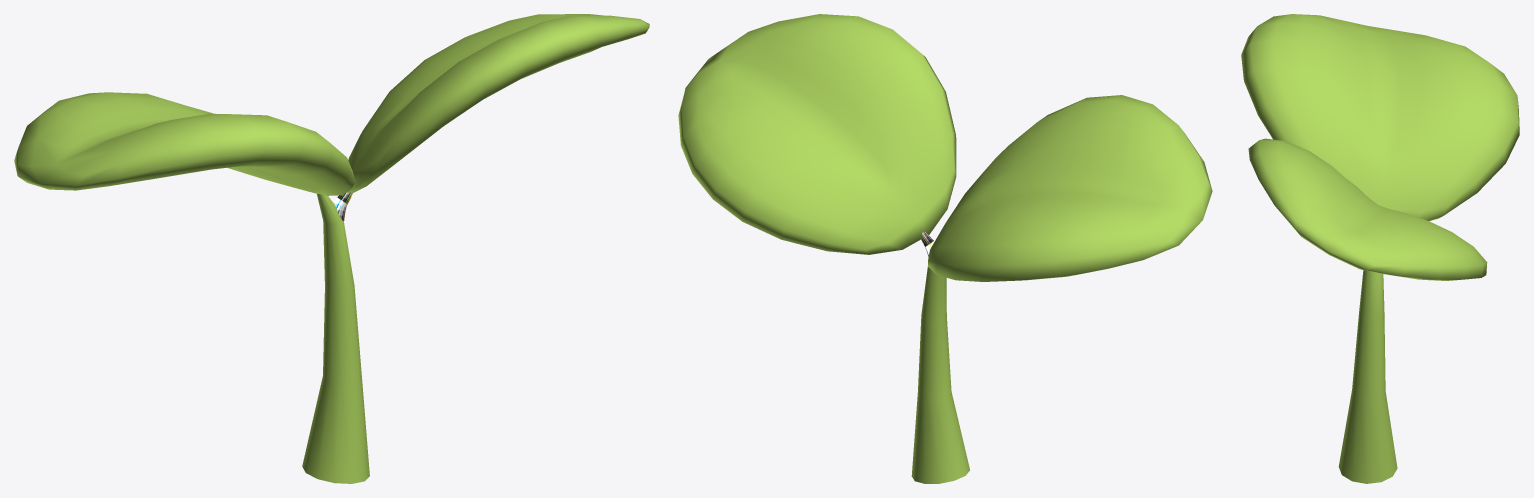
File: Sprout.fbx
3 renders of one model, left to right at view 1: azimuth 30°, elevation 25°; view 2: azimuth 150°, elevation 25°; view 3: azimuth 270°, elevation 25°, orthographic. The views are drawn at different scales.
Parts seen in each view (by area): view 1: Leaf.191, Leaf.192, NurbsPath; view 2: Leaf.192, Leaf.191, NurbsPath; view 3: Leaf.191, Leaf.192, NurbsPath.
Boxes of the visible parts, x1,y1,x2,y2 form: Leaf.191: (14,92,355,195); Leaf.192: (347,14,649,192); NurbsPath: (302,194,369,483); Leaf.192: (678,14,956,254); Leaf.191: (928,95,1212,281); NurbsPath: (911,267,969,483); Leaf.191: (1241,14,1519,221); Leaf.192: (1248,138,1487,280); NurbsPath: (1338,270,1397,483).
Bounding box in the file's own units: 0.3351 × 0.1577 × 0.2416.
